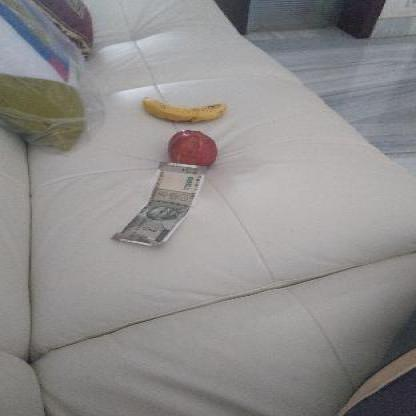New500Front: (120, 159, 200, 250)
